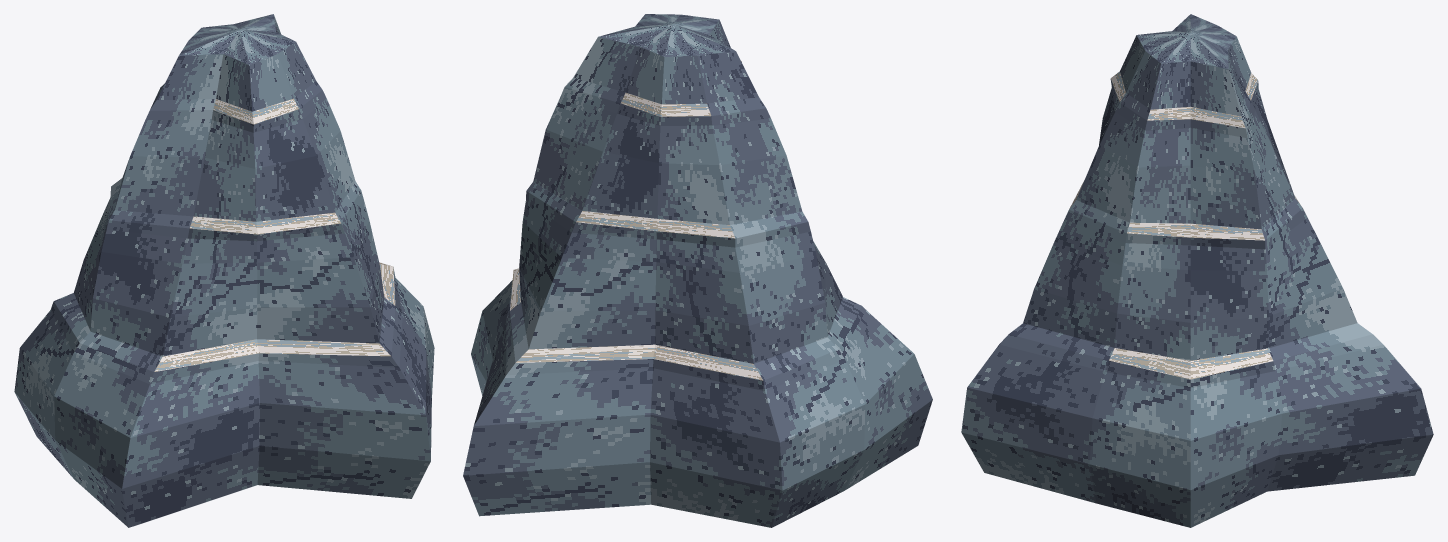
Rendered from TER-01_Roca_de_marea_a.gltf.
3 renders of one model, left to right at view 1: azimuth 30°, elevation 25°; view 2: azimuth 150°, elevation 25°; view 3: azimuth 270°, elevation 25°, orthographic. The views are drawn at different scales.
Parts seen in each view (by area): view 1: TER-01_Roca_de_marea_a-convcol; view 2: TER-01_Roca_de_marea_a-convcol; view 3: TER-01_Roca_de_marea_a-convcol.
Part boxes in pixels (left/top/right/bottom): TER-01_Roca_de_marea_a-convcol: left=14, top=14, right=434, bottom=527; TER-01_Roca_de_marea_a-convcol: left=463, top=14, right=932, bottom=527; TER-01_Roca_de_marea_a-convcol: left=961, top=14, right=1433, bottom=527.
Size of the model in its own units: 1.8 by 1.85 by 1.94.
Materials: 2 (2 with a texture image).
